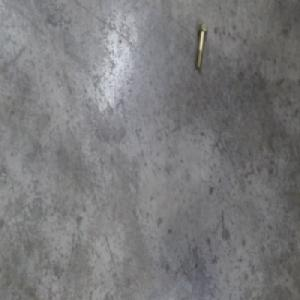Bolt: (194, 23, 208, 71)
